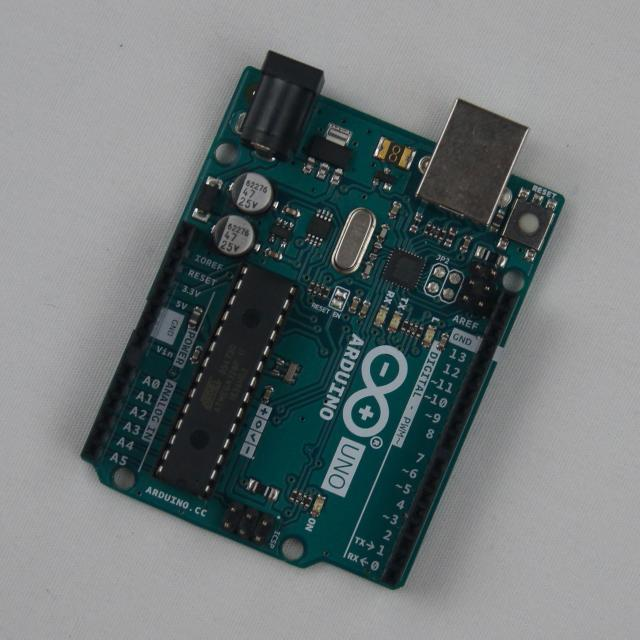Arduino Uno -Green-: (82, 53, 564, 589)
